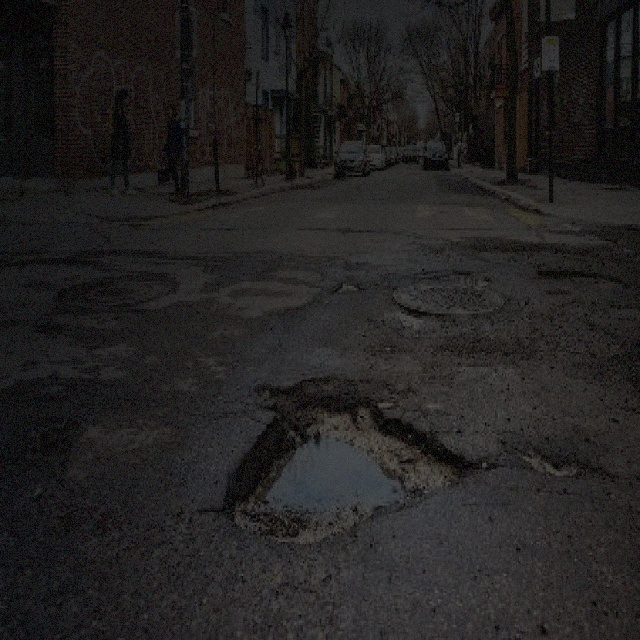pothole: (219, 371, 467, 548), (19, 412, 80, 467), (534, 262, 628, 294), (521, 444, 583, 480), (330, 275, 364, 297)
